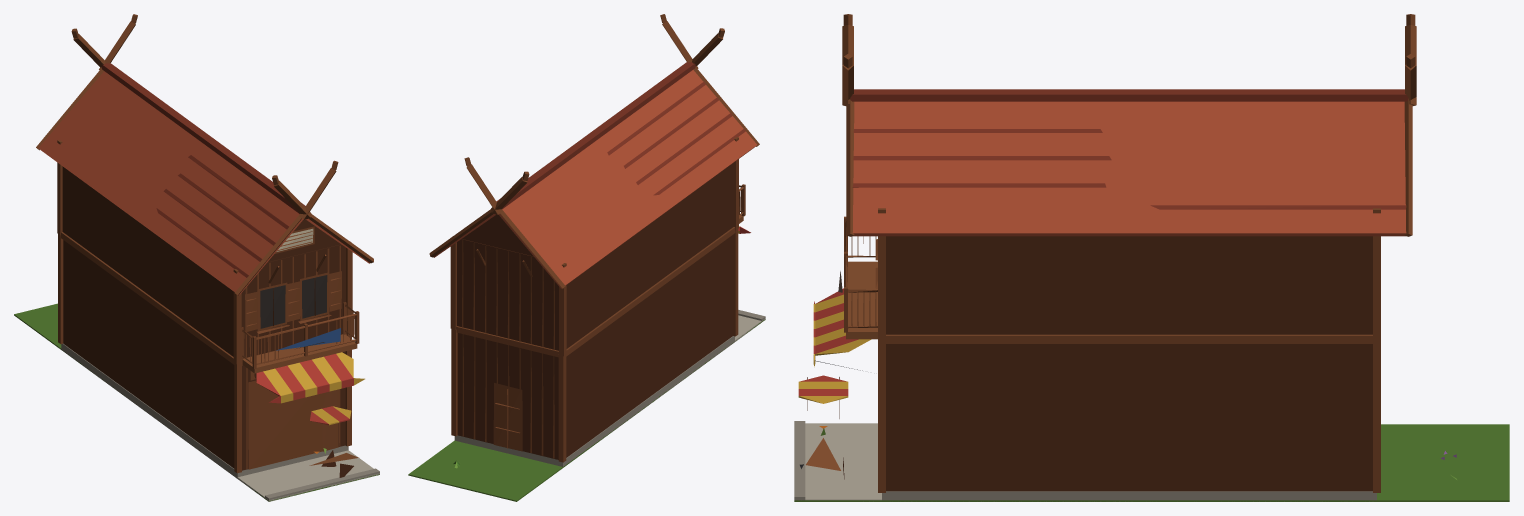
The model's file is bay1_mid.glb.
The picture shows the model from 3 angles, left to right: view 1: azimuth 30°, elevation 25°; view 2: azimuth 150°, elevation 25°; view 3: azimuth 270°, elevation 25°; orthographic projection. The views are drawn at different scales.
Visible parts, largest first — view 1: body, windows; view 2: body; view 3: body.
Part boxes in pixels (x1,y1,x2,y2): body: (14,14,379,501); windows: (260,275,327,328); body: (408,14,765,501); body: (794,14,1509,501).
Size of the model in its own units: 5.02 by 10.78 by 15.9.
